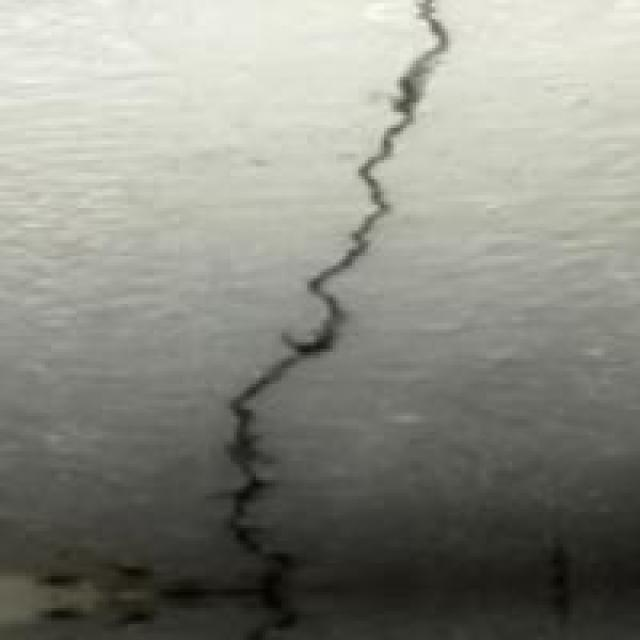crack: (163, 13, 461, 611)
